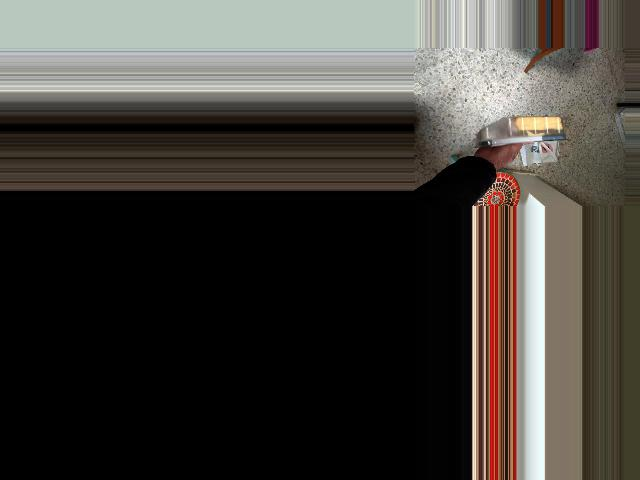cheese: (481, 105, 567, 164)
